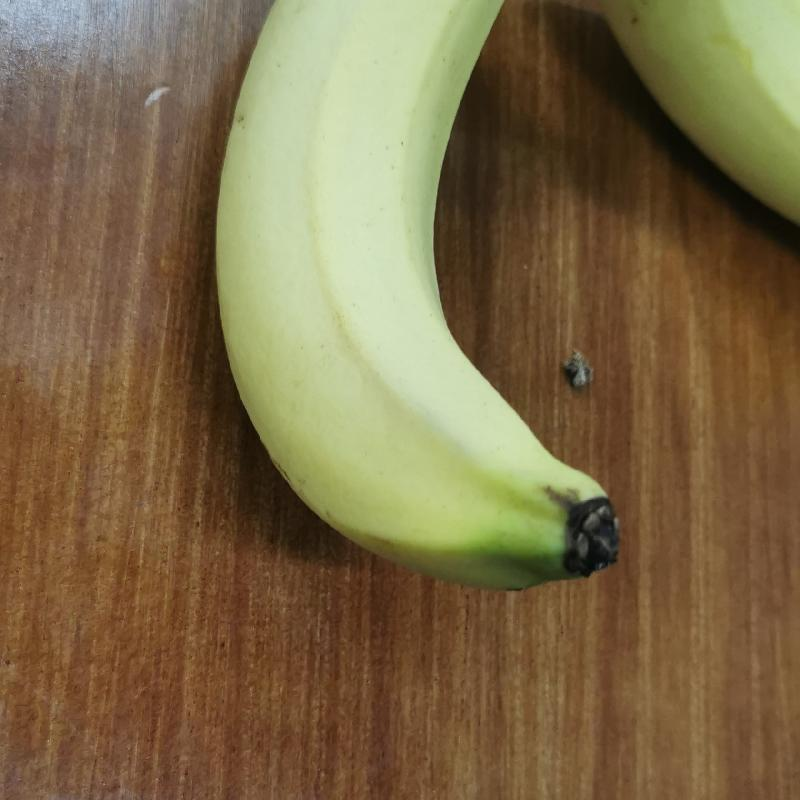bananas: (198, 0, 669, 620)
